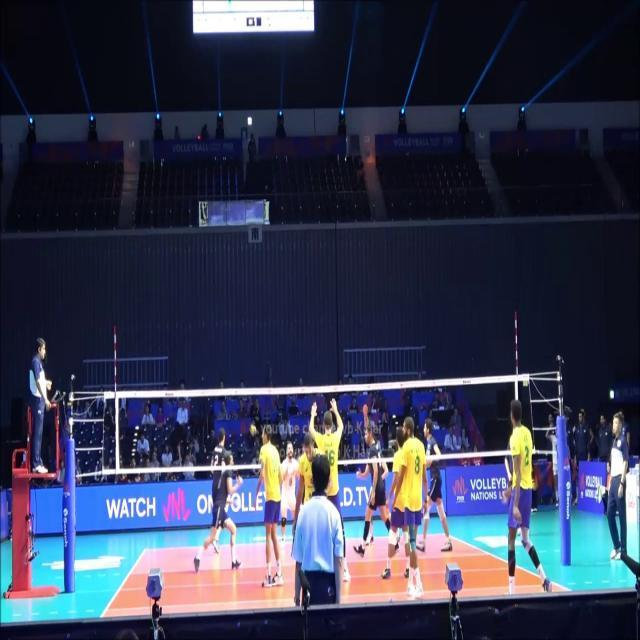volleyball: (249, 424, 257, 434)
